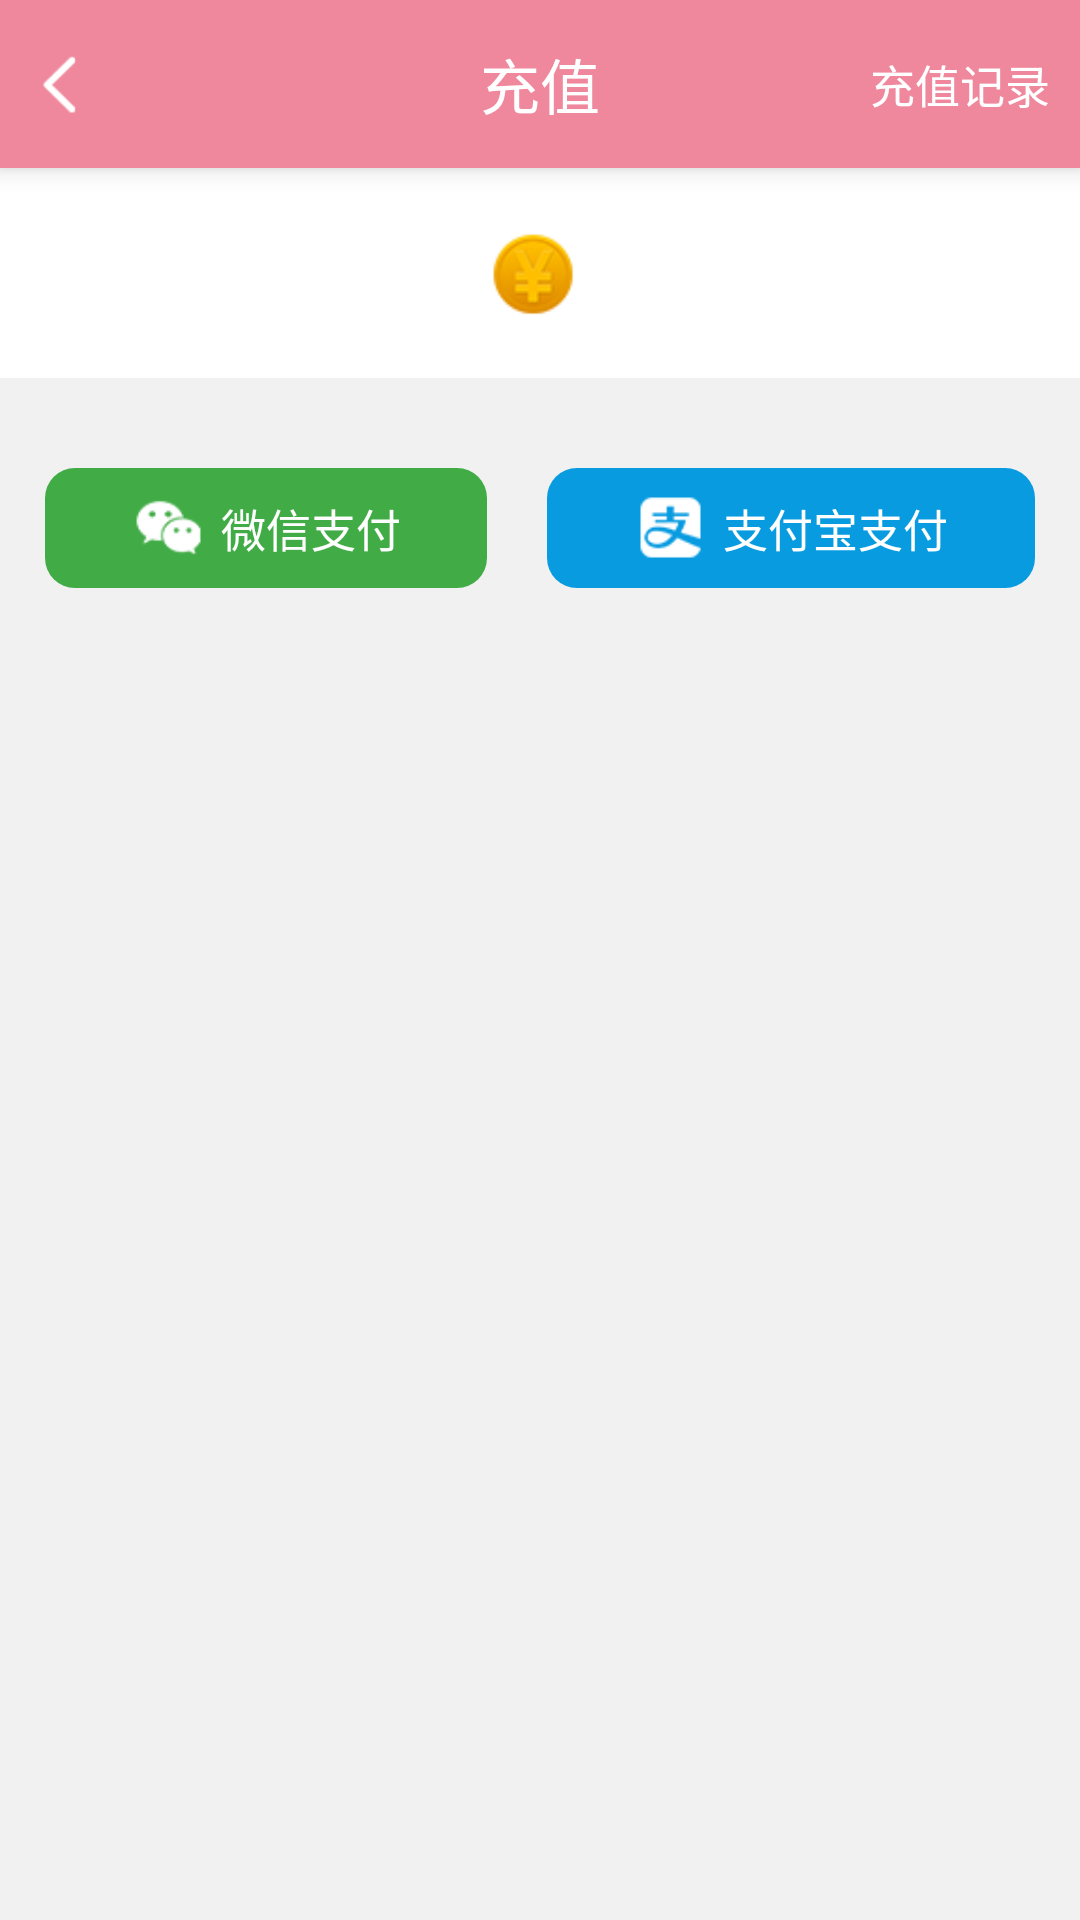

Where icons sit on this 1080x1920 app screen, as region(x1, y1, x2, y2):
qian: region(493, 234, 573, 314)
